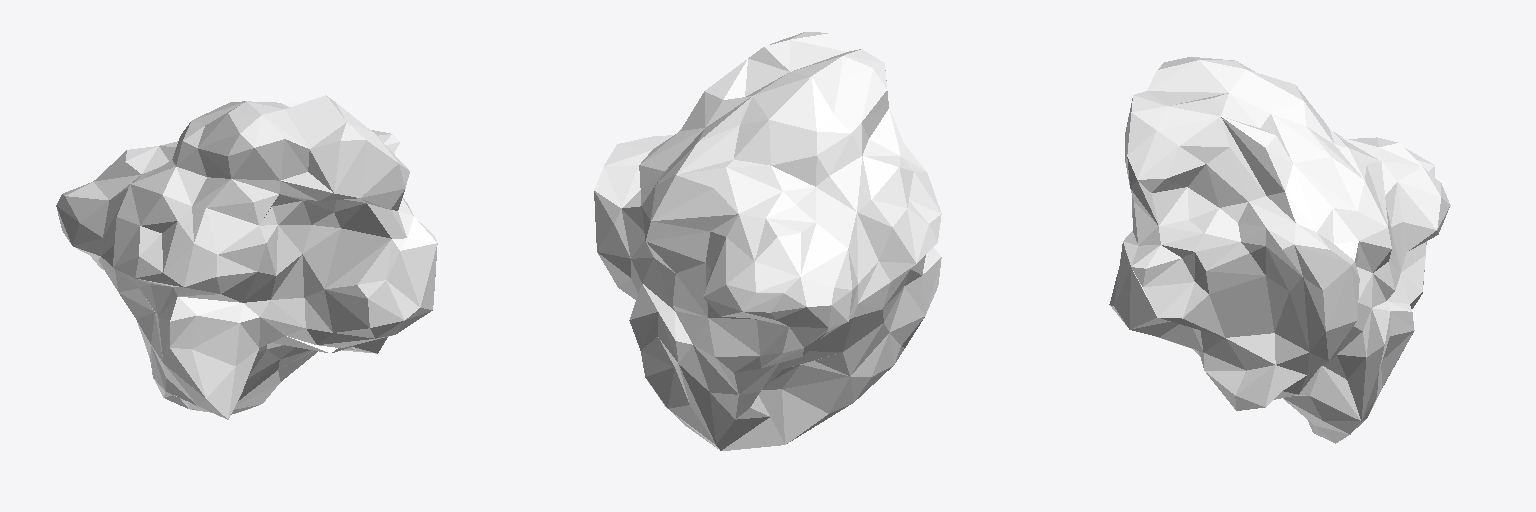
File: Asteroid_02_M.obj
3 views of the same model, side by side, from view 1: azimuth 30°, elevation 25°; view 2: azimuth 150°, elevation 25°; view 3: azimuth 270°, elevation 25° (orthographic).
Visible parts, largest first — view 1: Asteroid_02_M; view 2: Asteroid_02_M; view 3: Asteroid_02_M.
Part boxes in pixels (left/top/right/bottom): Asteroid_02_M: left=56, top=95, right=437, bottom=419; Asteroid_02_M: left=594, top=32, right=941, bottom=450; Asteroid_02_M: left=1109, top=57, right=1450, bottom=443.
Bounding box in the file's own units: 74.7 × 87.6 × 75.6.